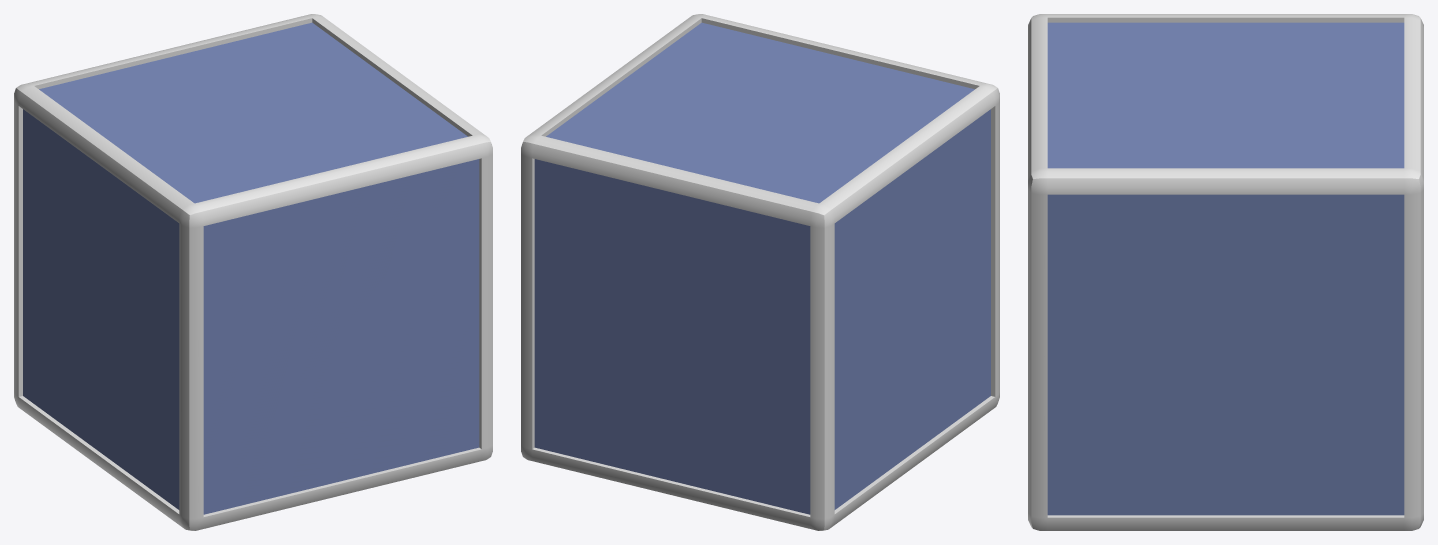
Rendered from Cage.fbx.
3 renders of one model, left to right at view 1: azimuth 30°, elevation 25°; view 2: azimuth 150°, elevation 25°; view 3: azimuth 270°, elevation 25°, orthographic. The views are drawn at different scales.
Parts seen in each view (by area): view 1: Cage, polySurface15, polySurface14, pCube1; view 2: polySurface16, polySurface15, polySurface14, pCube1; view 3: polySurface12, polySurface14, pCube1.
Boxes of the visible parts, bbox=[...] form: Cage: bbox=[203, 159, 479, 514]; polySurface15: bbox=[23, 109, 179, 509]; polySurface14: bbox=[39, 22, 467, 203]; pCube1: bbox=[14, 14, 492, 530]; polySurface16: bbox=[534, 159, 810, 514]; polySurface15: bbox=[834, 109, 990, 509]; polySurface14: bbox=[546, 22, 974, 203]; pCube1: bbox=[521, 14, 999, 530]; polySurface12: bbox=[1047, 194, 1404, 515]; polySurface14: bbox=[1047, 22, 1404, 168]; pCube1: bbox=[1028, 14, 1423, 530].
Bounding box in the file's own units: 22.9 × 22.9 × 22.9.
